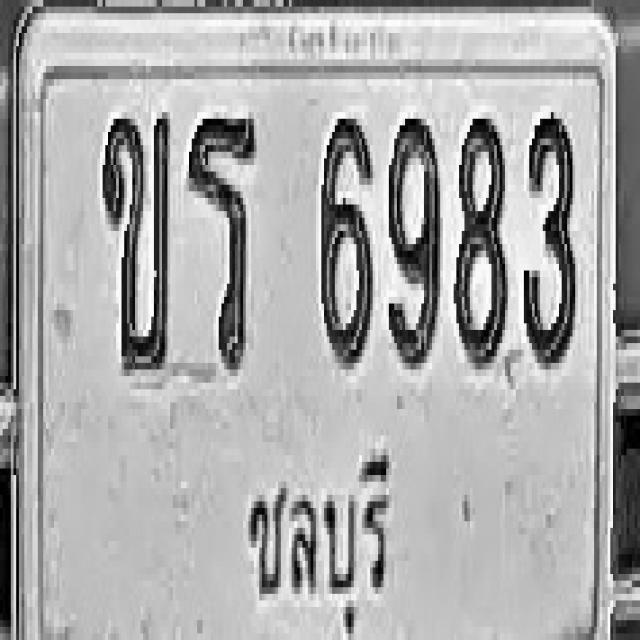11KhorKhai: (100, 109, 170, 373)
3: (522, 109, 576, 366)
44RorRuea: (186, 112, 256, 370)
6: (320, 116, 371, 366)
8: (453, 109, 508, 366)
9: (386, 112, 440, 370)
Chonburi: (240, 435, 392, 640)
